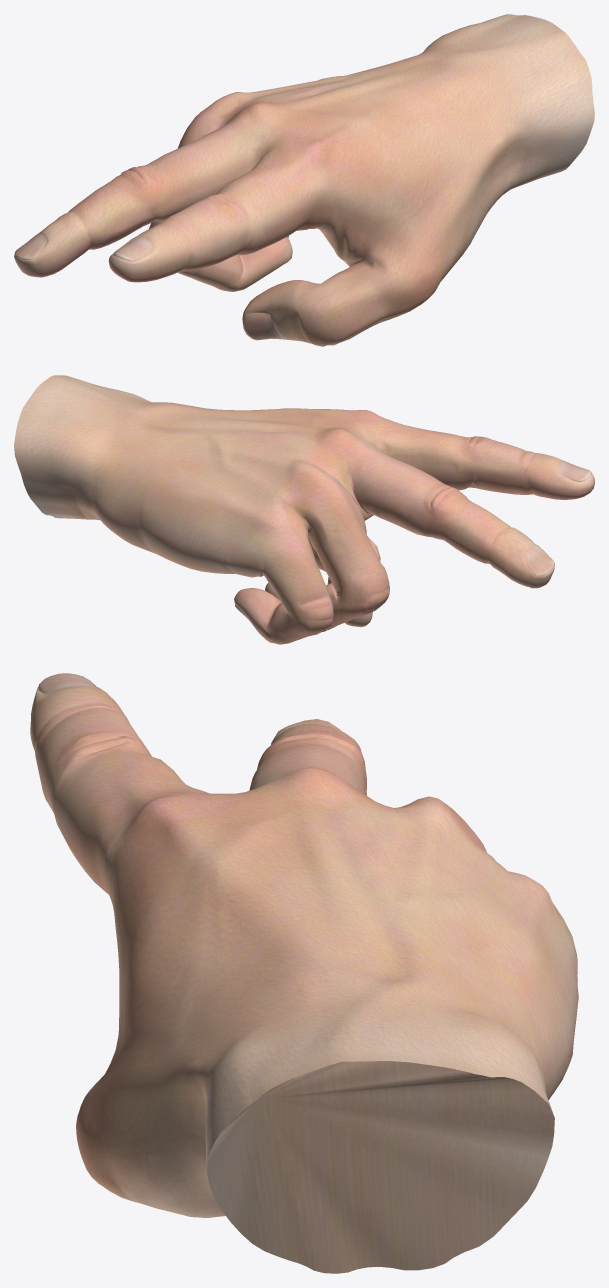
Rendered from hand_33.obj.
3 renders of one model, top to bottom at view 1: azimuth 30°, elevation 25°; view 2: azimuth 150°, elevation 25°; view 3: azimuth 270°, elevation 25°, orthographic. The views are drawn at different scales.
Visible parts, largest first — view 1: Figure_2; view 2: Figure_2; view 3: Figure_2.
Part boxes in pixels (x1,y1,x2,y2): Figure_2: [14, 14, 594, 346]; Figure_2: [14, 375, 594, 644]; Figure_2: [30, 673, 578, 1273].
Size of the model in its own units: 0.8919 by 0.3447 by 0.4263.
Materials: 2 (2 with a texture image).
